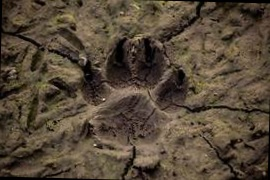rat: (156, 55, 208, 107)
